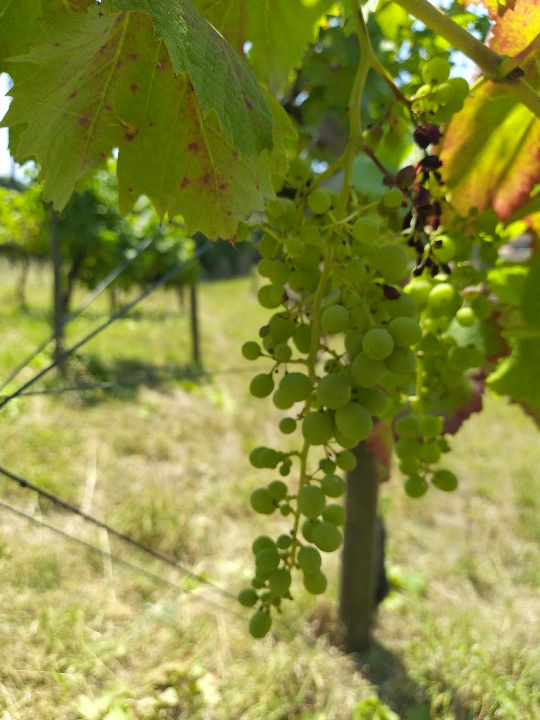grape: (232, 184, 423, 639), (375, 116, 468, 281)
